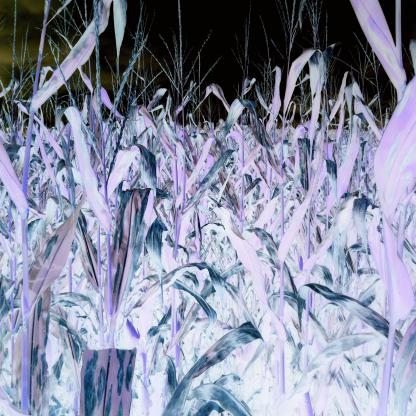corn leaf blight: (372, 78, 414, 344), (25, 2, 112, 115), (166, 321, 263, 416), (297, 279, 413, 356), (57, 102, 111, 241), (24, 190, 87, 308), (108, 187, 157, 337), (125, 260, 225, 317), (346, 0, 406, 94), (78, 344, 140, 416), (178, 151, 238, 222), (283, 45, 326, 137), (26, 291, 55, 416), (220, 93, 273, 156)
